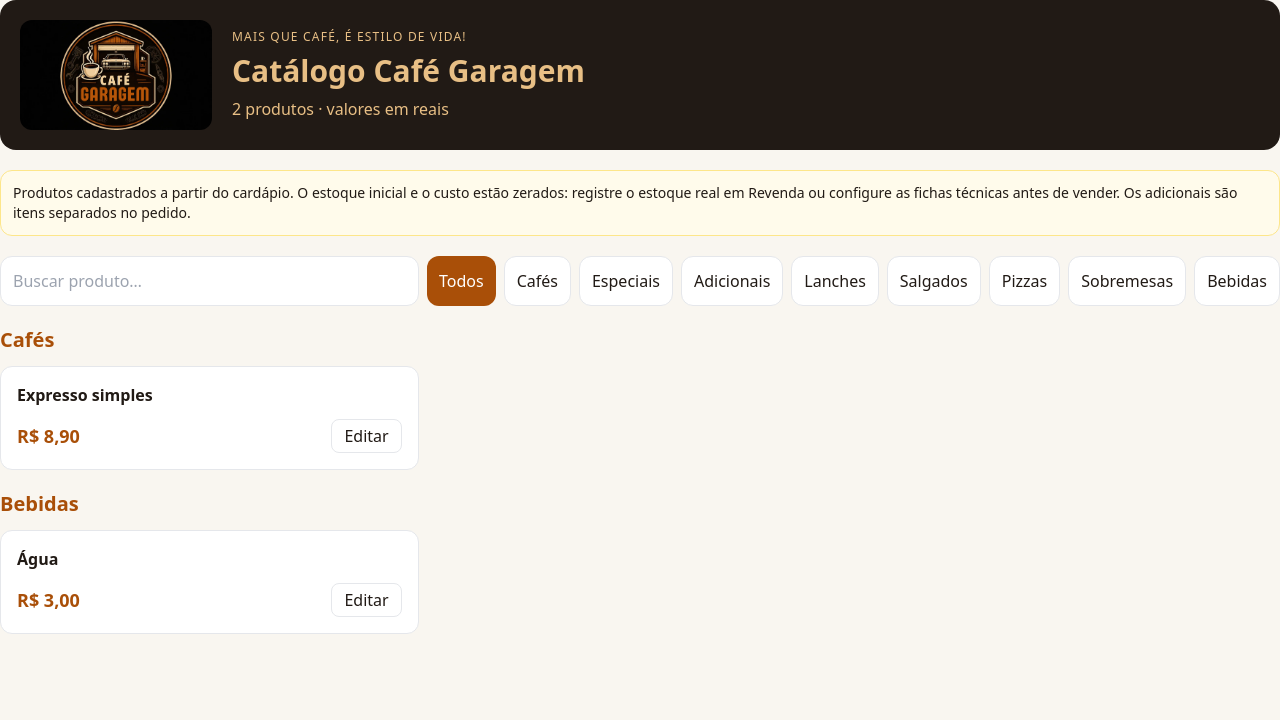
catálogo Café Garagem › mostra os produtos, filtra e salva o preço no SQLite pelo cliente local
Expected: the heading "Expresso simples" is shown, [17,384,153,406]
Click the button "Bebidas" at (1237, 281), box [1194,256,1279,306]
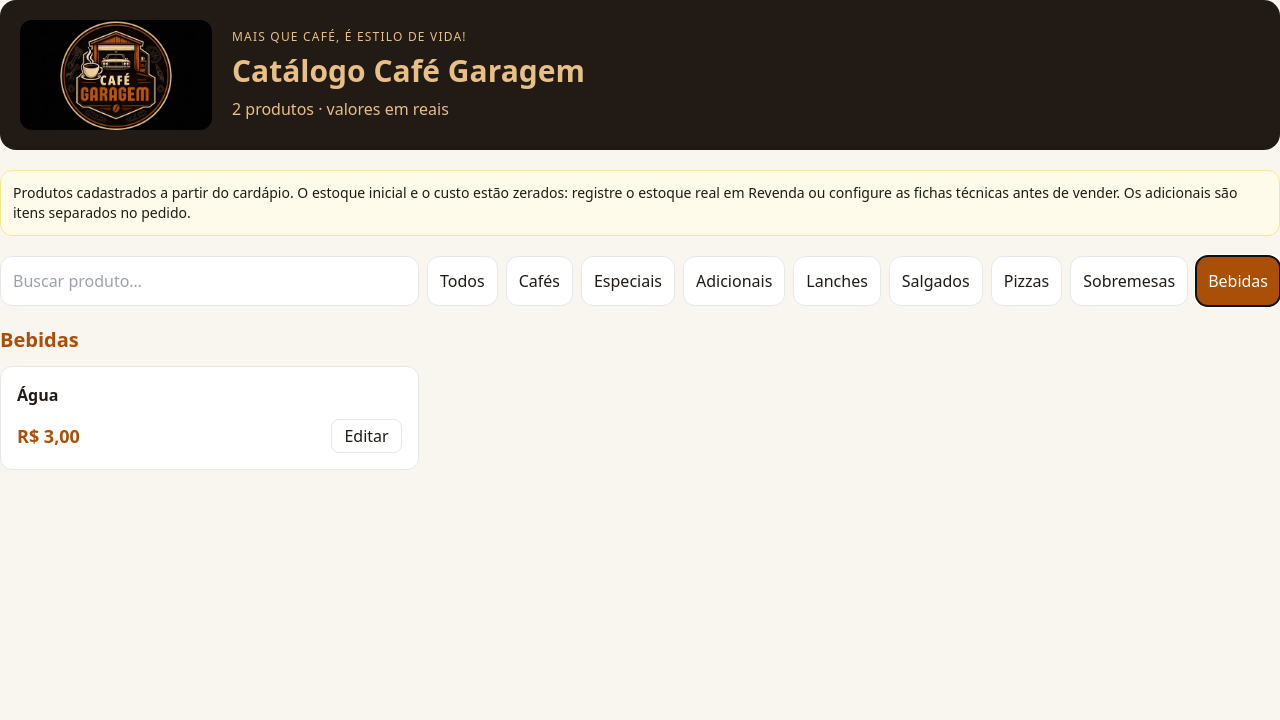
Expected: the heading "Água" is shown, [17,384,58,406]
Now the heading "Expresso simples" is gone
Click the button "Todos" at (462, 281), box [427,256,498,306]
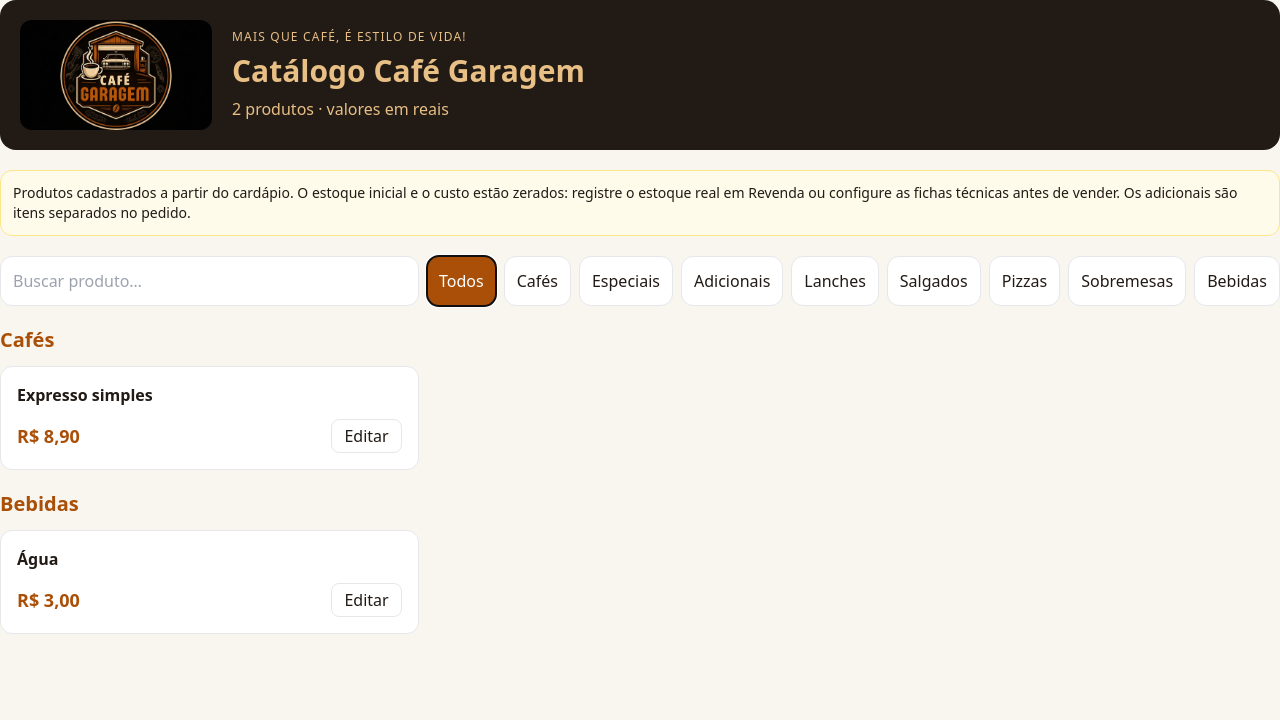
Click the button with aria-label "Editar Expresso simples" at (366, 436), box [331,419,402,453]
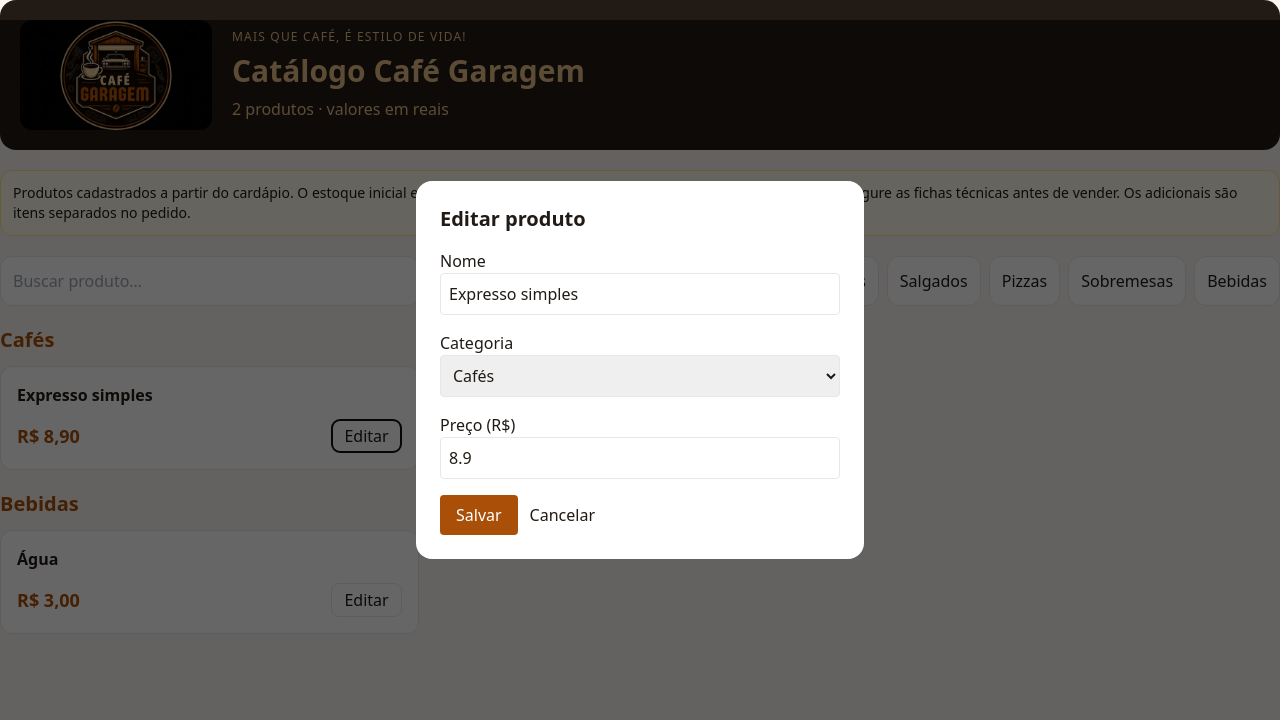
Replace the text in the field labelled "Preço (R$)" with "9,50" at (640, 458), box [440,437,840,479]
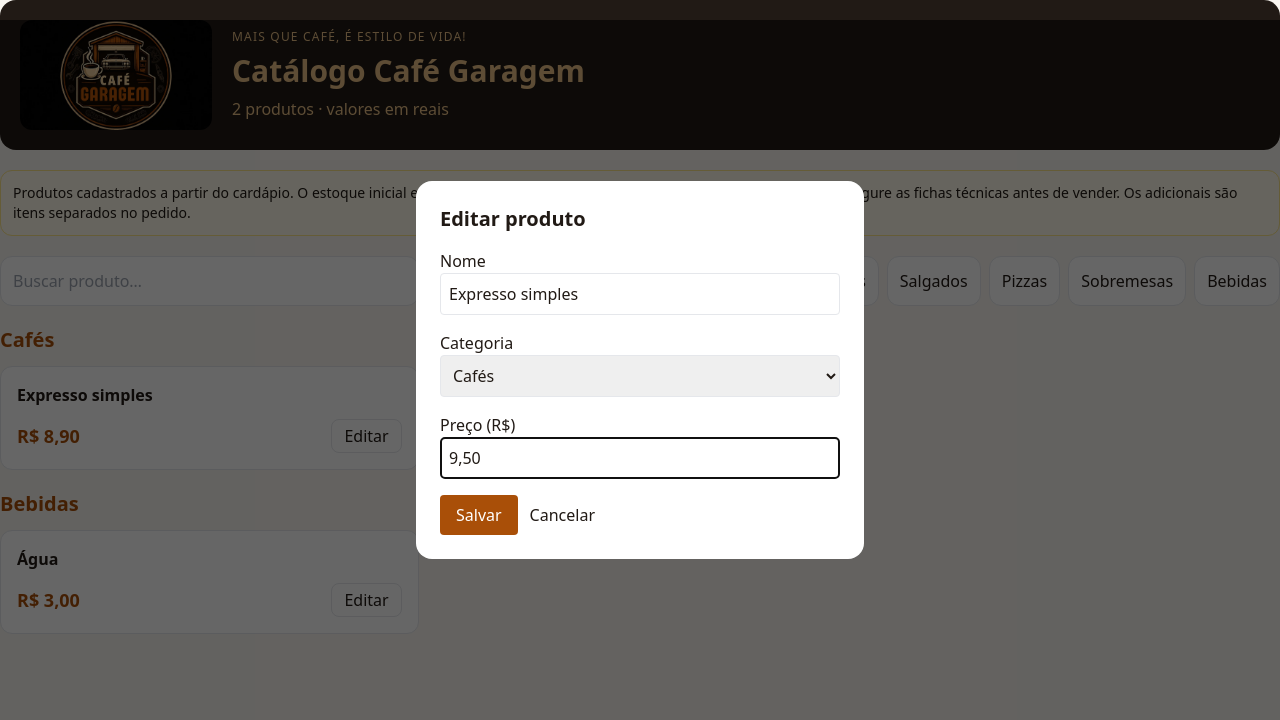
Click the button "Salvar" at (479, 515), box [440,495,518,535]
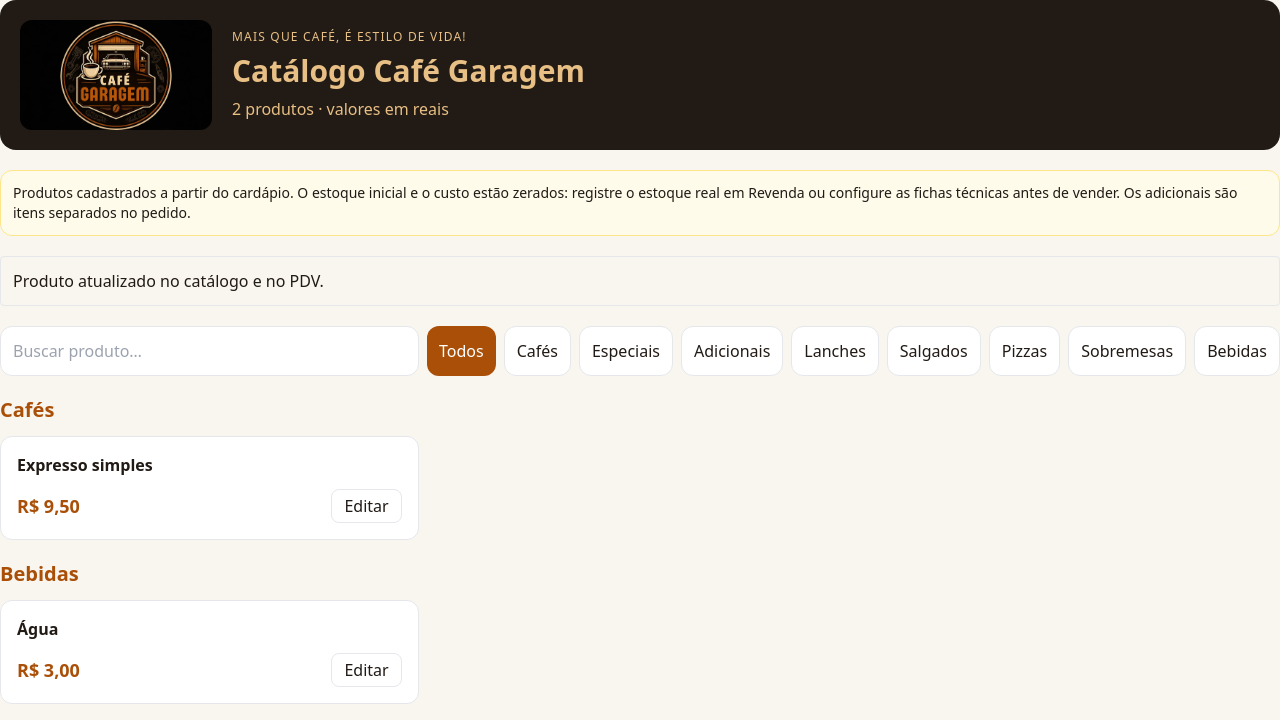
Now the text "Produto atualizado no catálogo e no PDV." is shown, box [0,256,1279,306]
